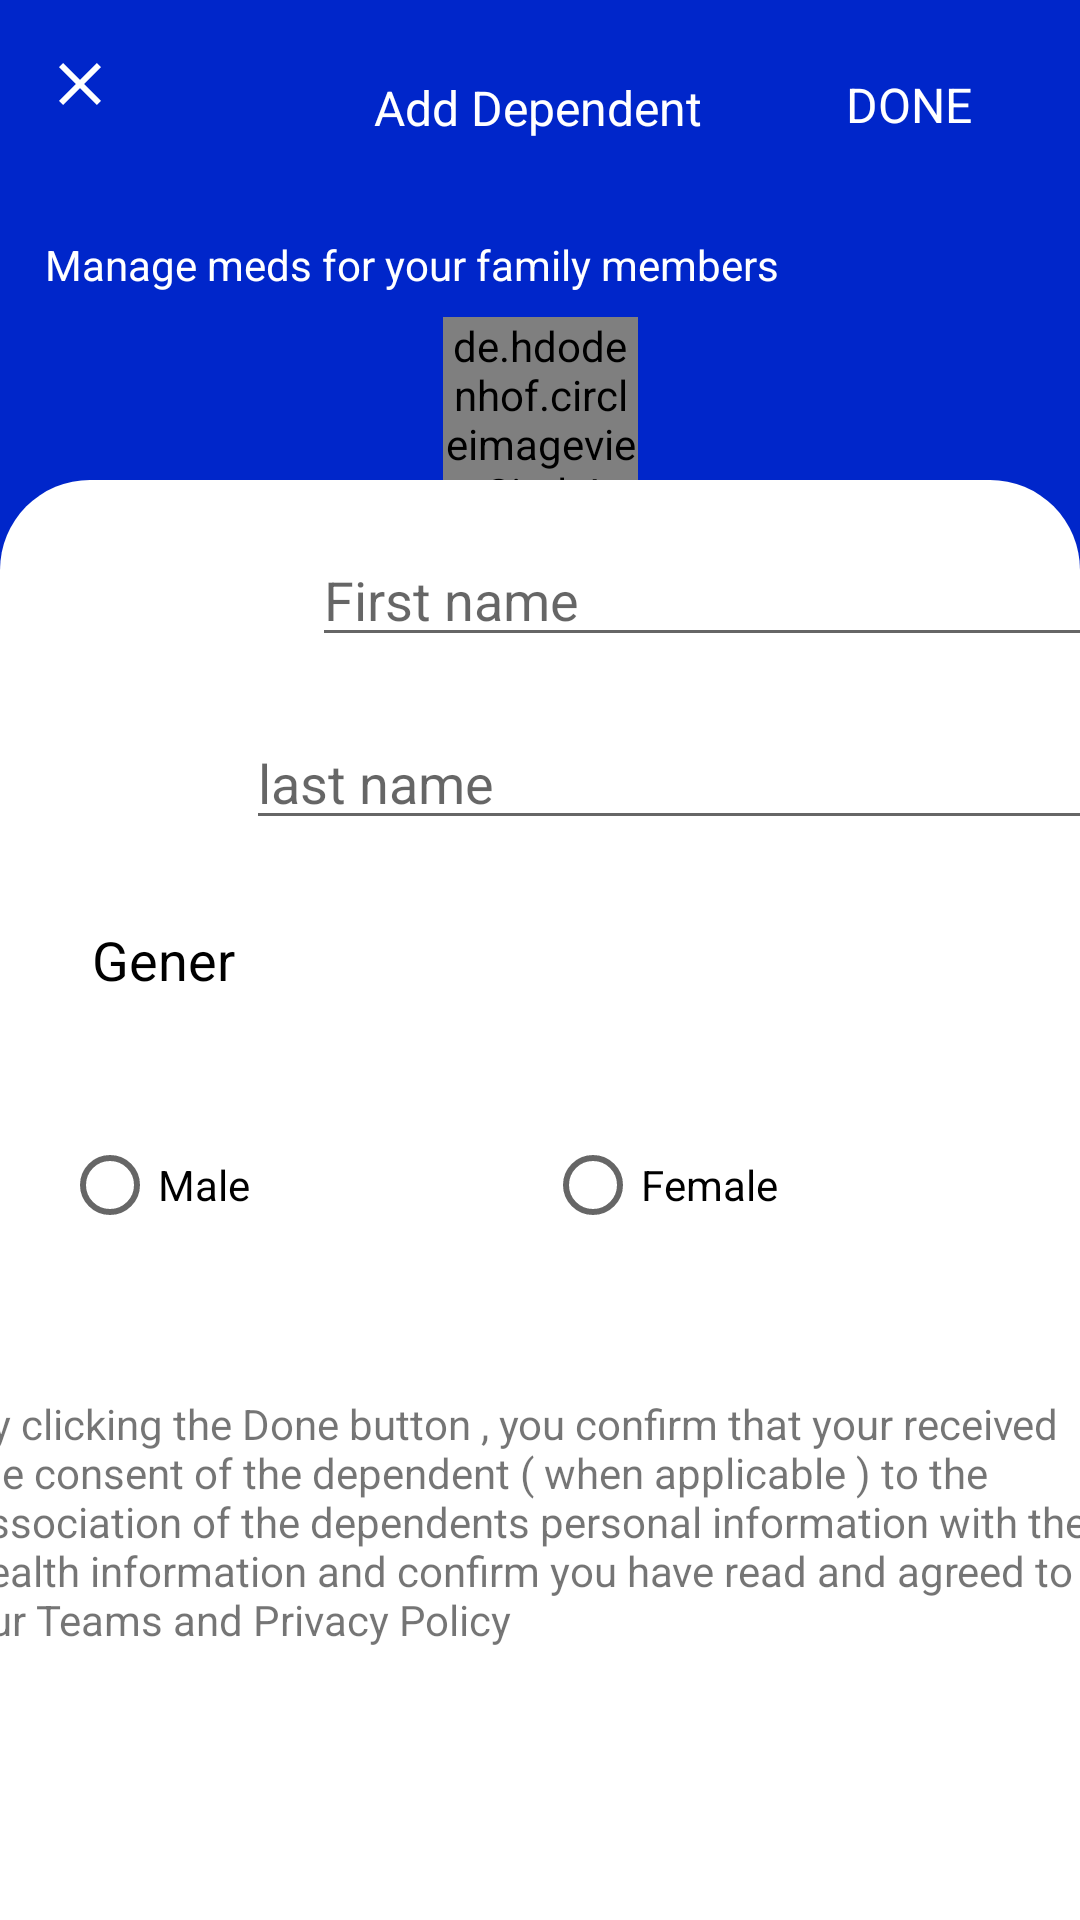

Icons on this 1080 × 1920 Android screen, each with the point to tap as [x,y]:
ba close: [80,84]
